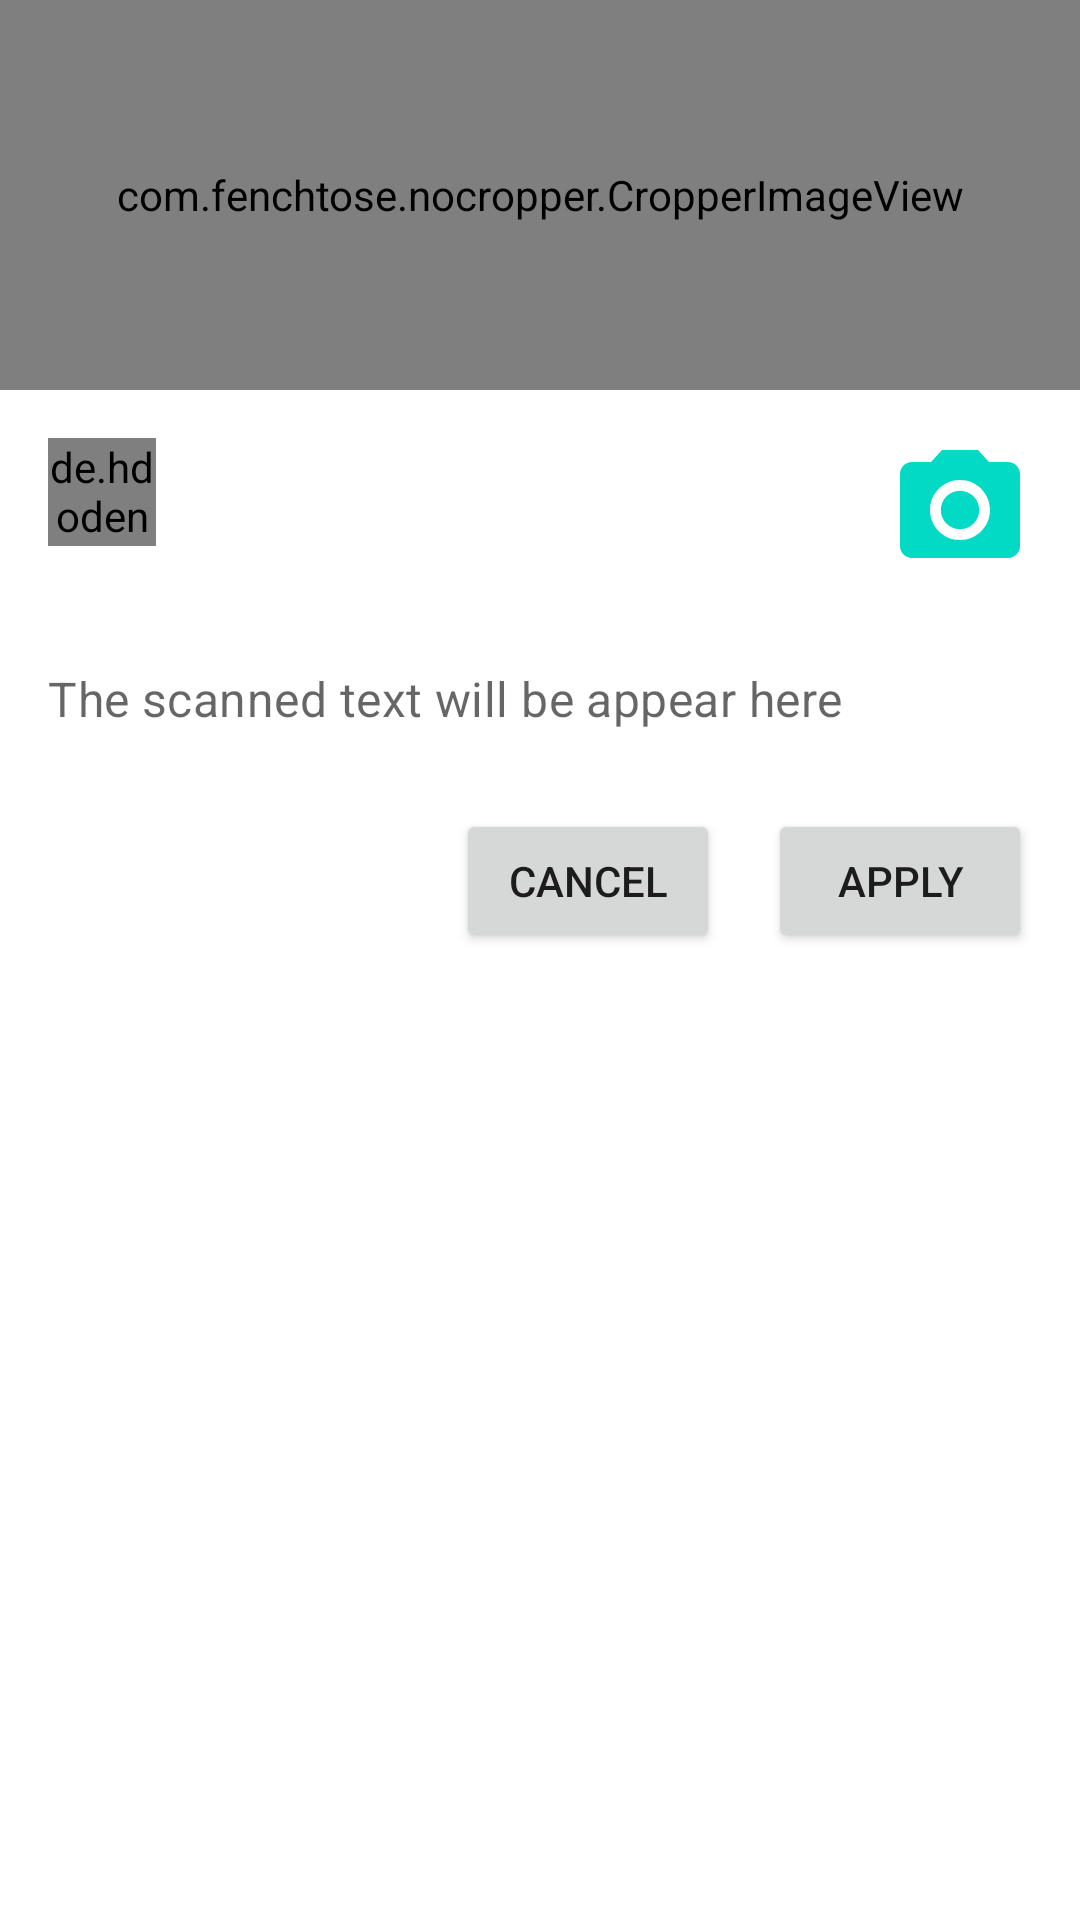

Named icons in this screenshot (1080 x 1920) and their bounding boxes, (x1, y1, x2, y2):
Picture translation button: (900, 450, 1020, 558)
